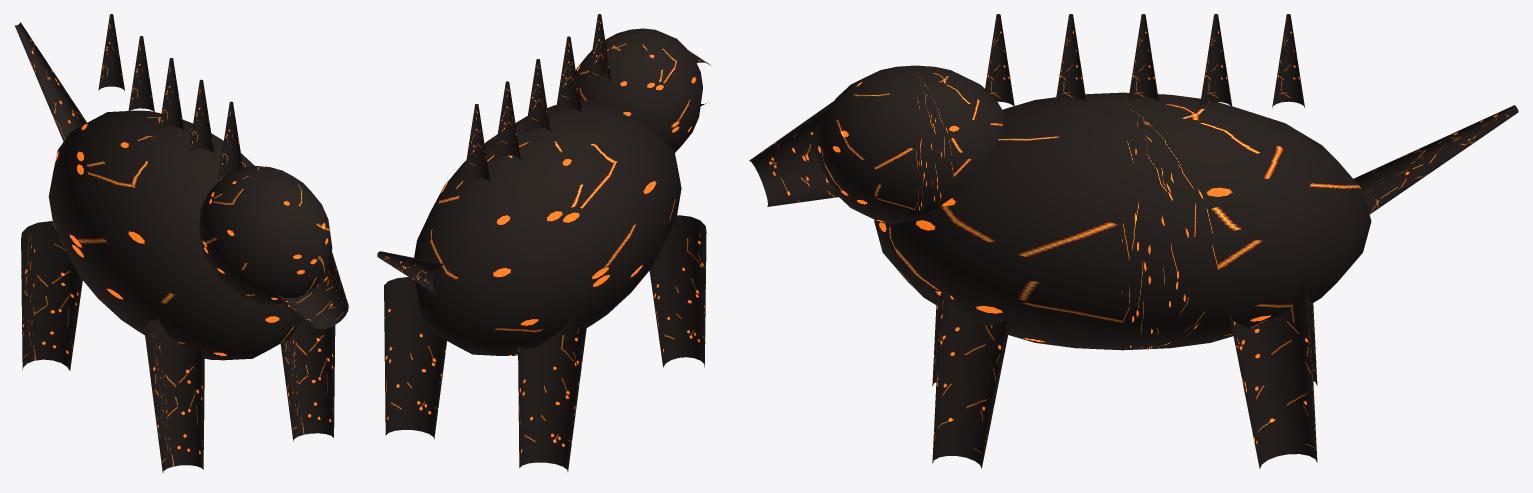
Rendered from tapas_magma_hound.glb.
The picture shows the model from 3 angles, left to right: view 1: azimuth 30°, elevation 25°; view 2: azimuth 150°, elevation 25°; view 3: azimuth 270°, elevation 25°; orthographic projection. The views are drawn at different scales.
Parts seen in each view (by area): view 1: Node_TapasMagmaHound; view 2: Node_TapasMagmaHound; view 3: Node_TapasMagmaHound.
Boxes of the visible parts, left/top/right/bottom form: Node_TapasMagmaHound: left=14, top=14, right=348, bottom=472; Node_TapasMagmaHound: left=377, top=14, right=711, bottom=471; Node_TapasMagmaHound: left=749, top=14, right=1518, bottom=468.
Size of the model in its own units: 0.64 by 1.11 by 1.86.
Materials: 1 (1 with a texture image).
